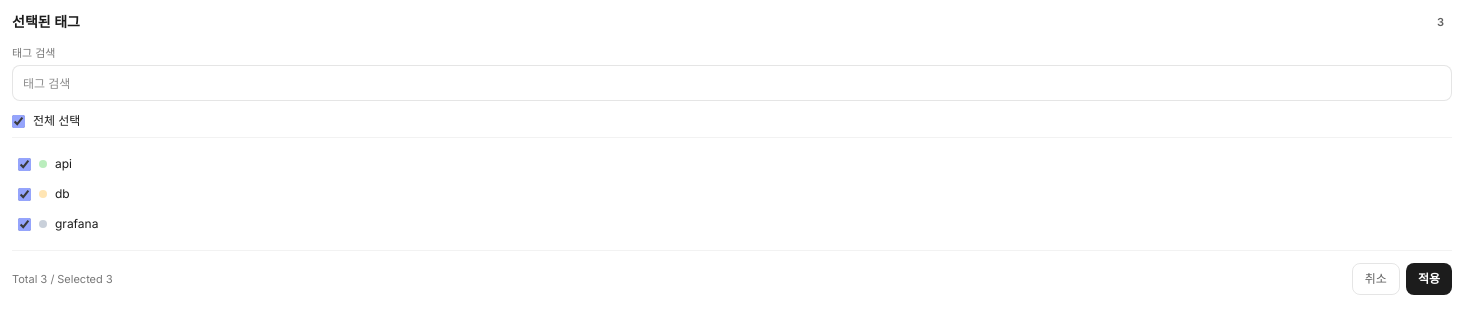
Test: TagFilterPanel › search filters visible rows without touching the draft
The width and height of the screenshot is (1464, 312).
In the field labelled "태그 검색": (732, 83) [12,65,1452,101], type "gra"
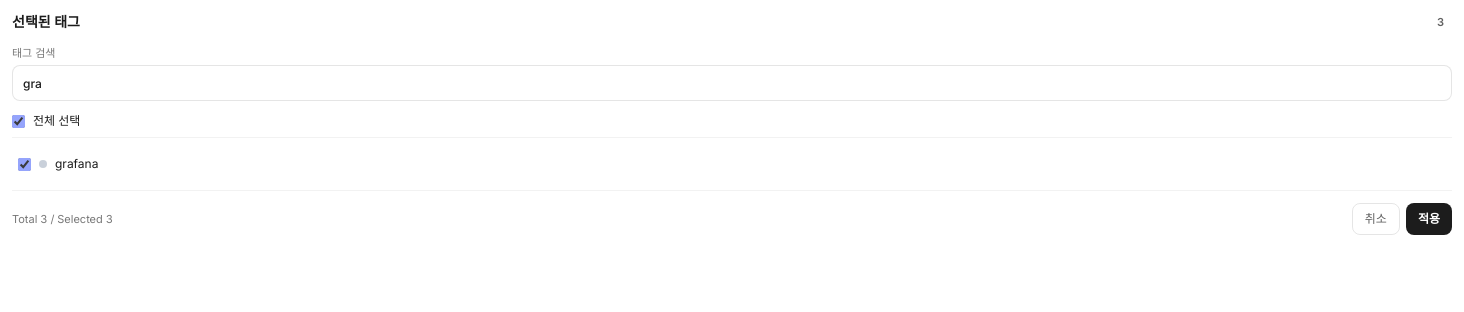
Expected: the checkbox labelled "grafana" is shown, [18,158,31,170]
Expected: the text "db" is gone
